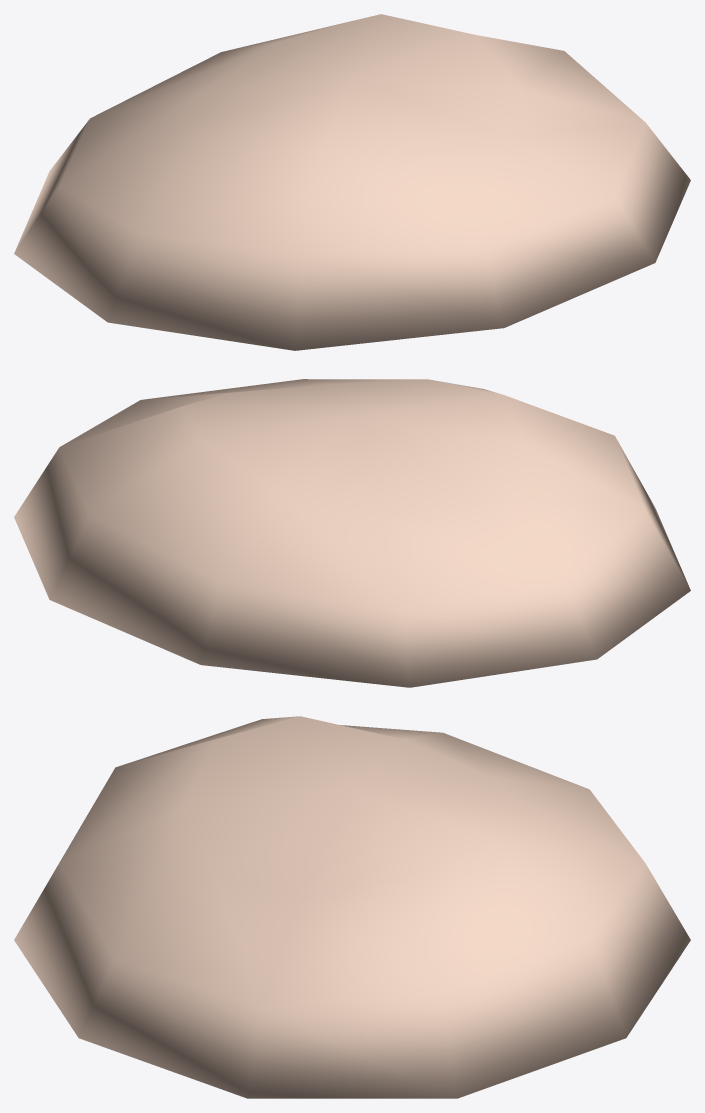
Rendered from Shell.fbx.
The picture shows the model from 3 angles, top to bottom: view 1: azimuth 30°, elevation 25°; view 2: azimuth 150°, elevation 25°; view 3: azimuth 270°, elevation 25°; orthographic projection. The views are drawn at different scales.
Parts seen in each view (by area): view 1: Shell.001; view 2: Shell.001; view 3: Shell.001.
Part boxes in pixels (x1,y1,x2,y2): Shell.001: (14, 14, 690, 350); Shell.001: (14, 379, 690, 687); Shell.001: (14, 716, 690, 1098).
Bounding box in the file's own units: 0.1331 × 0.03 × 0.12.
